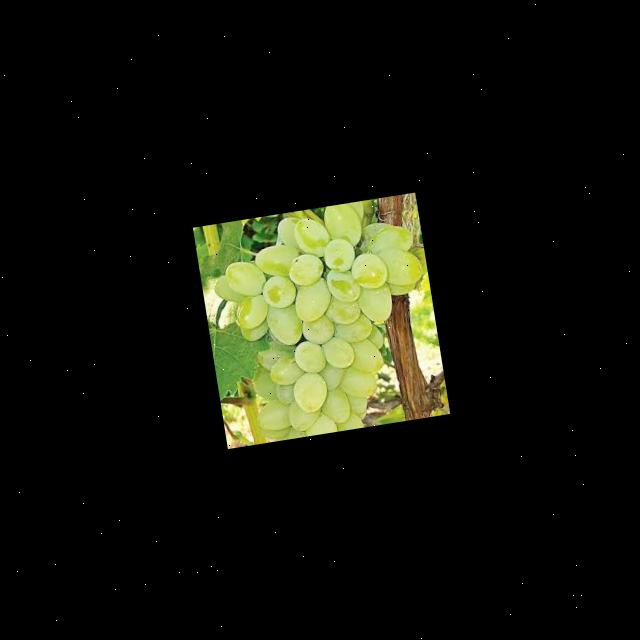grape: (202, 192, 448, 446)
